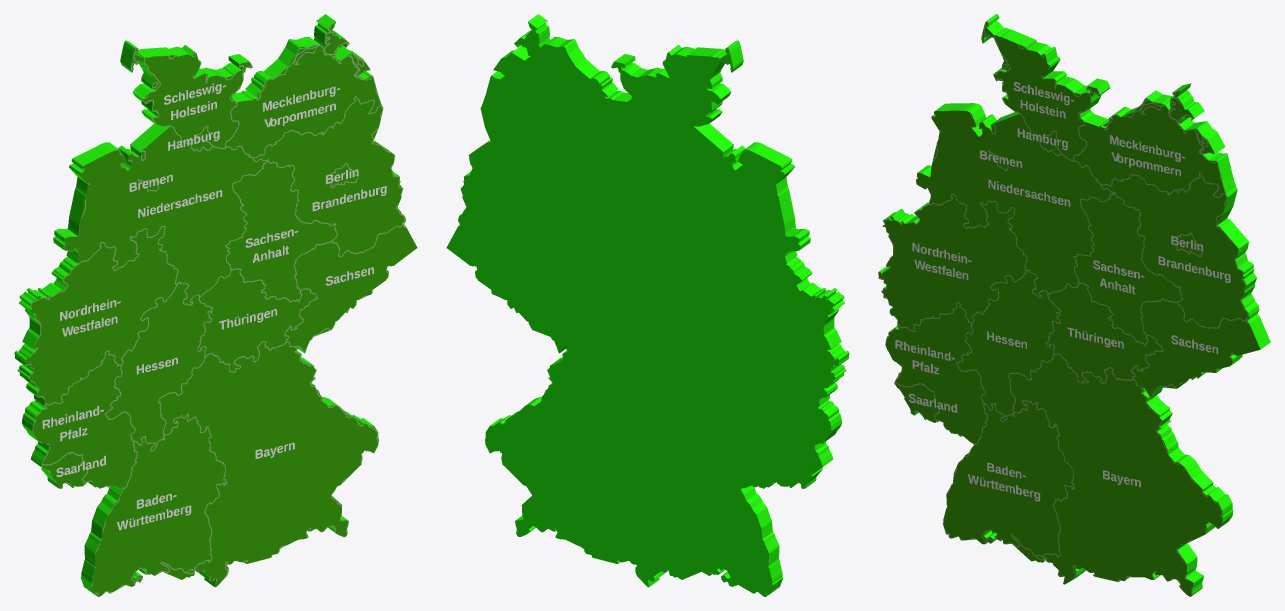
Rendered from Karte.gltf.
3 views of the same model, side by side, from view 1: azimuth 30°, elevation 25°; view 2: azimuth 150°, elevation 25°; view 3: azimuth 330°, elevation 25° (orthographic). The views are drawn at different scales.
Bounding box in the file's own units: 1.22 × 1.66 × 0.0564.
Materials: 2 (1 with a texture image).
